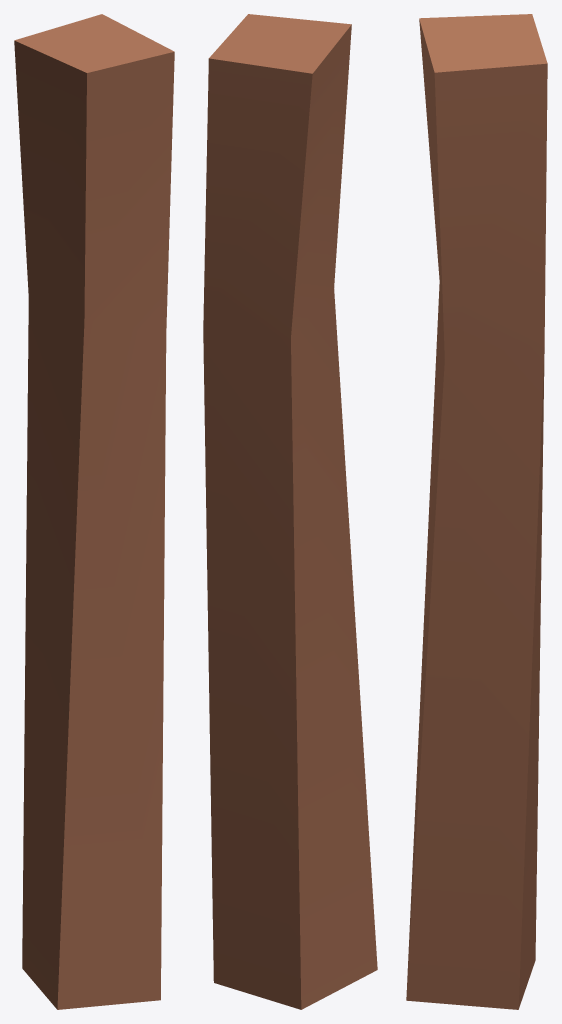
The model's file is ice_pole_wood_2.5.fbx.
The picture shows the model from 3 angles, left to right: view 1: azimuth 30°, elevation 25°; view 2: azimuth 150°, elevation 25°; view 3: azimuth 270°, elevation 25°; orthographic projection.
Parts seen in each view (by area): view 1: pole_wood_2.5; view 2: pole_wood_2.5; view 3: pole_wood_2.5.
Boxes of the visible parts, <box> form: pole_wood_2.5: <box>14,14,174,1009</box>; pole_wood_2.5: <box>203,14,377,1009</box>; pole_wood_2.5: <box>406,14,547,1009</box>.
Size of the model in its own units: 0.3454 by 2.52 by 0.34.
